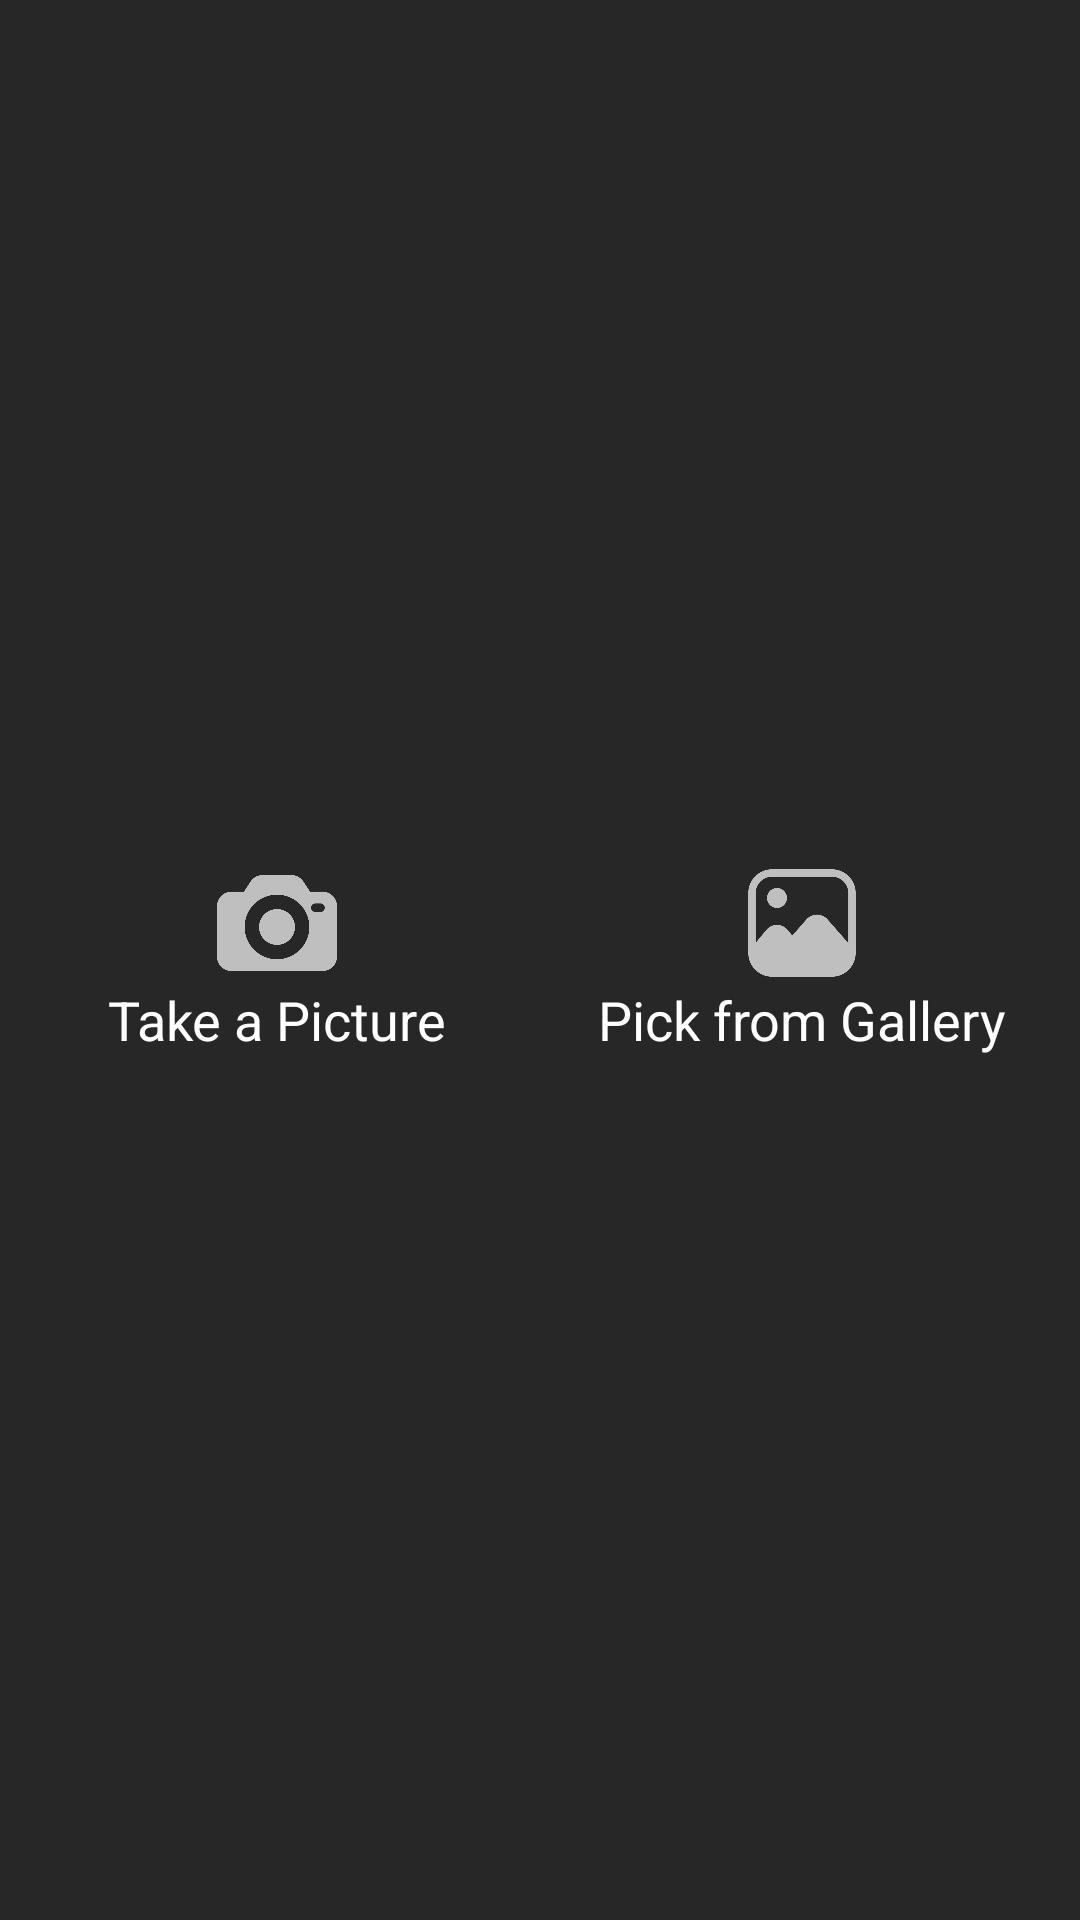

Screen size 1080px x 1920px. Icon name, then its center in pixels as point (x, y):
flaticon photo camera: point (277, 923)
